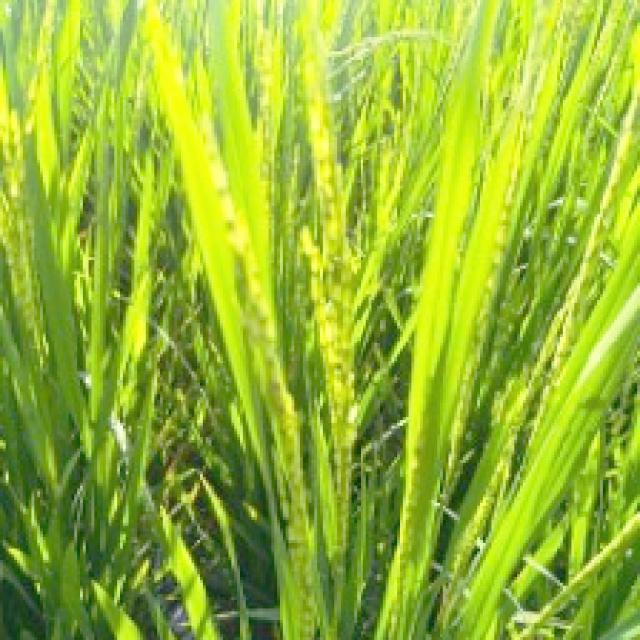health: (285, 23, 640, 640)
